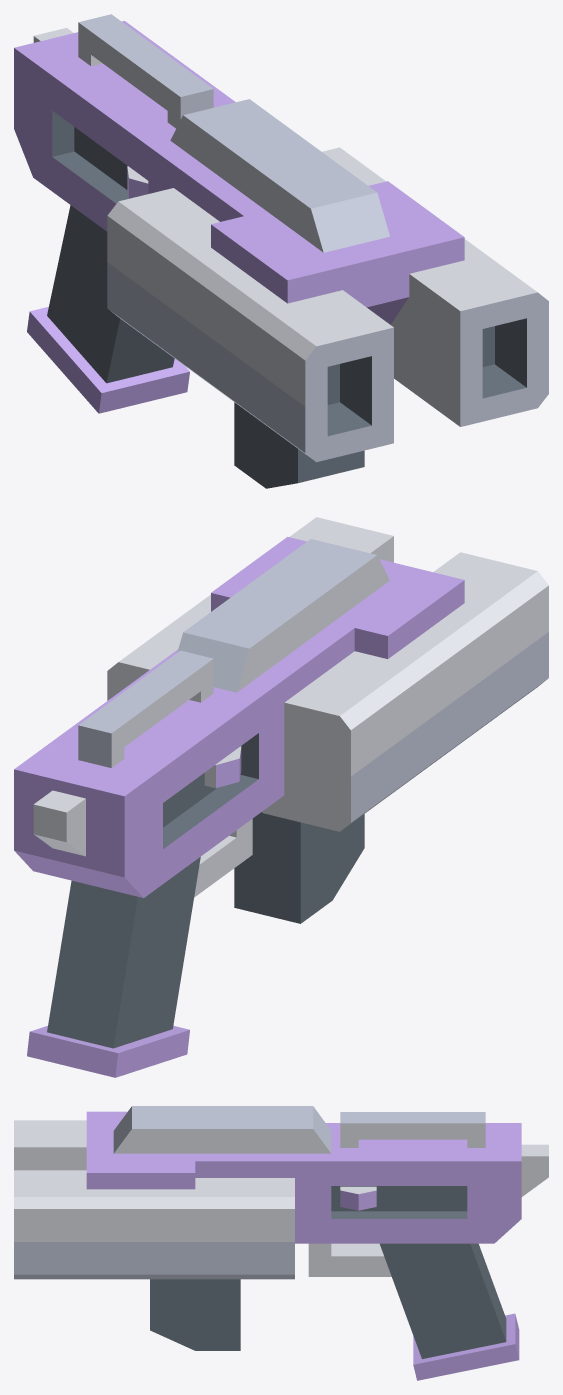
The model's file is blasterL.glb.
3 renders of one model, top to bottom at view 1: azimuth 30°, elevation 25°; view 2: azimuth 150°, elevation 25°; view 3: azimuth 270°, elevation 25°, orthographic. The views are drawn at different scales.
Visible parts, largest first — view 1: blasterL; view 2: blasterL; view 3: blasterL.
Boxes of the visible parts, bbox=[...] form: blasterL: bbox=[14, 14, 548, 488]; blasterL: bbox=[14, 517, 548, 1077]; blasterL: bbox=[14, 1106, 548, 1380].
Bounding box in the file's own units: 0.22 × 0.3017 × 0.59.
